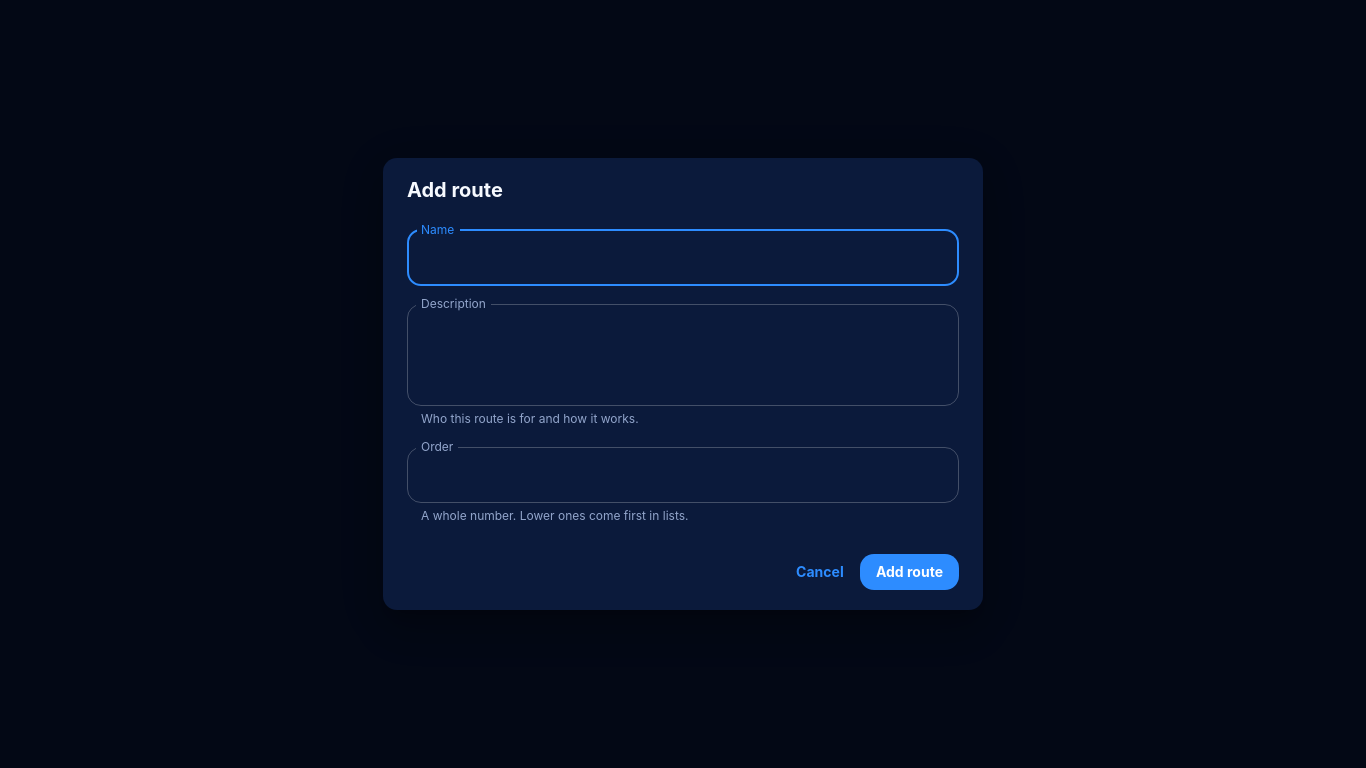
RouteForm › refuses an order that is not a whole number
Type "Recruiters" into the field labelled "Name".
click(683, 258); type("Recruiters")  # box [407,230,959,286]
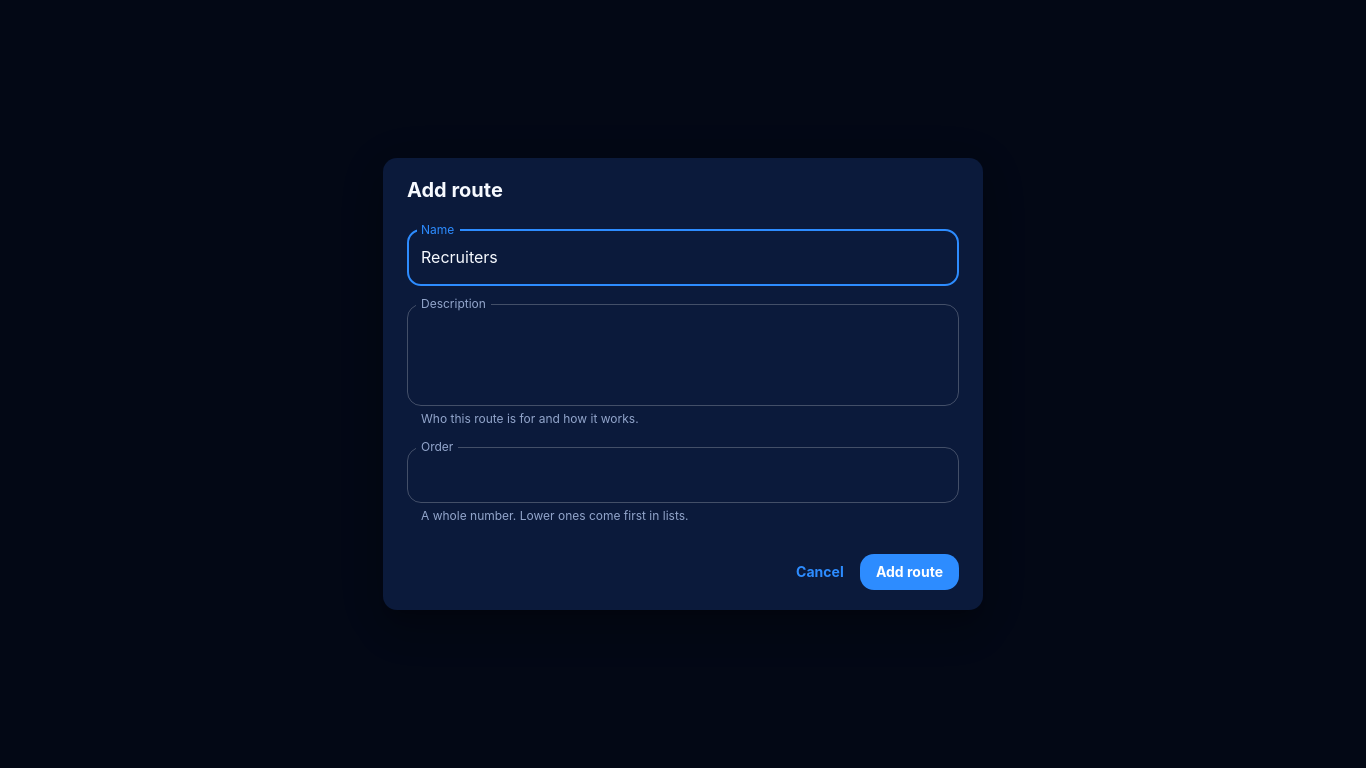
Type "soon" into the field labelled "Order".
click(683, 475); type("soon")  # box [407,447,959,503]
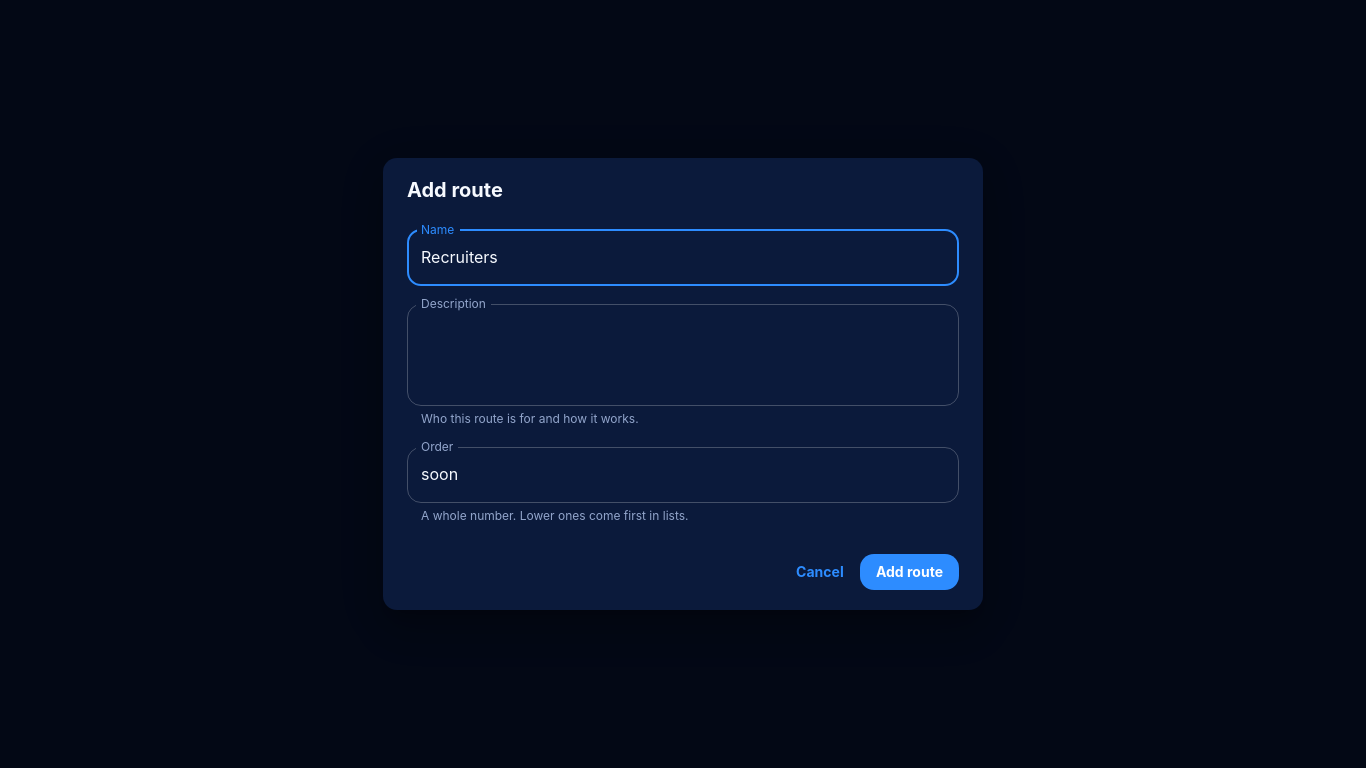
Click the button "Add route".
click(909, 572)  # box [860,554,959,590]
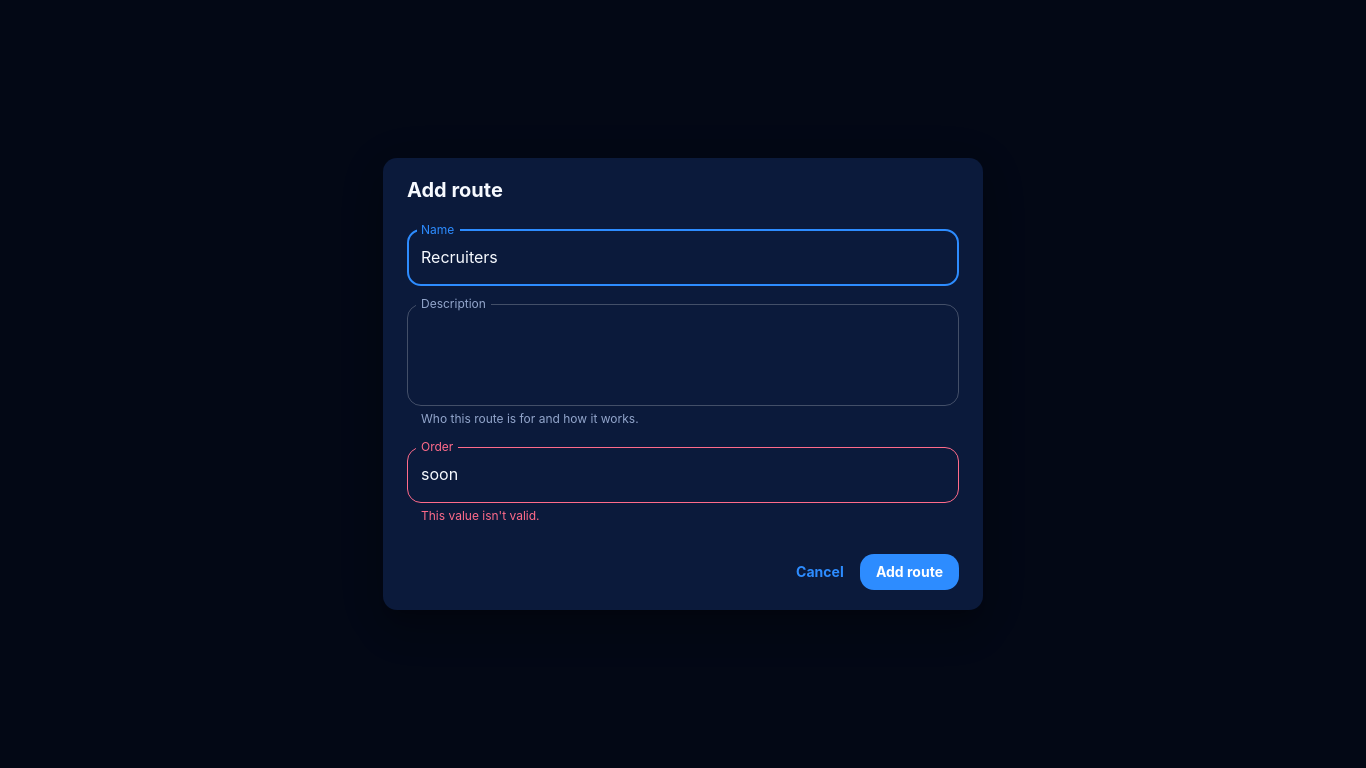
Now the text "This value isn't valid." is shown, box [421,508,540,523]
